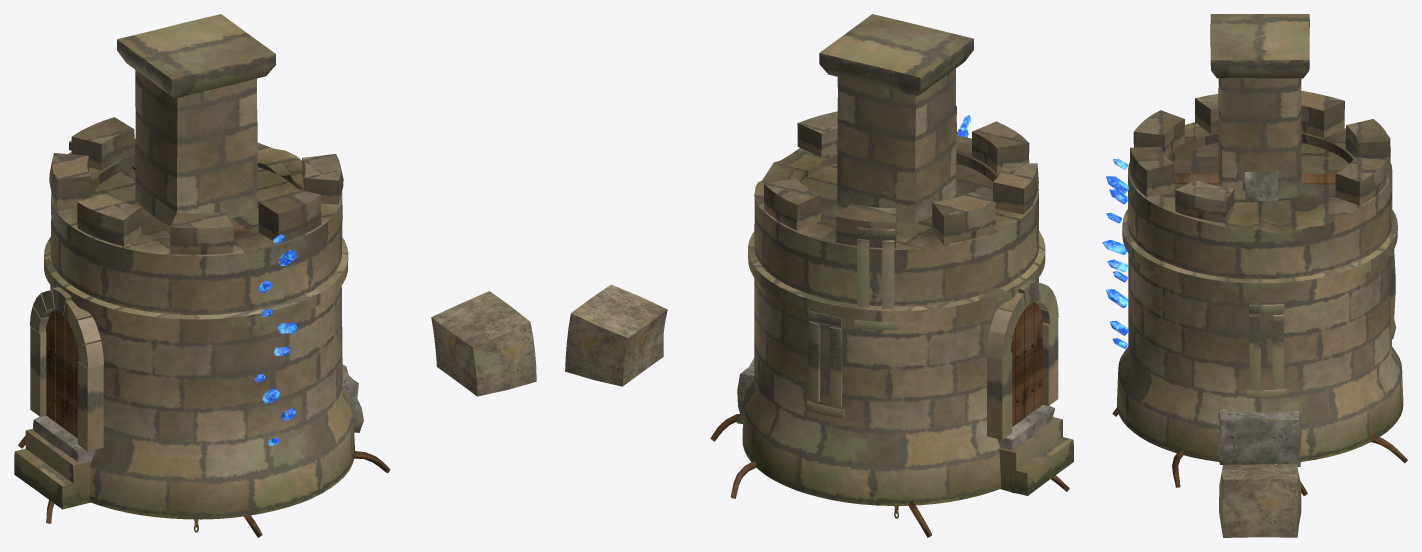
Rendered from landmarks_kit.glb.
3 renders of one model, left to right at view 1: azimuth 30°, elevation 25°; view 2: azimuth 150°, elevation 25°; view 3: azimuth 270°, elevation 25°, orthographic. The views are drawn at different scales.
Visible parts, largest first — view 1: Tower, Pier_L, Voussoir, Tower_Door, Lintel, Tower_Vein, HeartShell_Roots; view 2: Tower, Pier_L, Voussoir, Tower_Door, Lintel, HeartShell_Roots; view 3: Tower, Pier_L, Voussoir, Lintel, Tower_Vein, Menhir_C, MineHead, HeartShell_Roots.
Part boxes in pixels (x1,y1,x2,y2): Tower: [14, 117, 354, 519]; Pier_L: [117, 14, 275, 226]; Voussoir: [431, 291, 536, 396]; Tower_Door: [46, 309, 85, 438]; Lintel: [33, 364, 363, 461]; Tower_Vein: [254, 234, 297, 445]; HeartShell_Roots: [18, 435, 390, 537]; Tower: [742, 106, 1073, 505]; Pier_L: [819, 14, 973, 223]; Voussoir: [565, 284, 667, 386]; Tower_Door: [1004, 302, 1042, 426]; Lintel: [736, 358, 1054, 493]; HeartShell_Roots: [710, 414, 1069, 537]; Tower: [1117, 91, 1403, 464]; Pier_L: [1210, 14, 1309, 198]; Voussoir: [1219, 464, 1301, 537]; Lintel: [1217, 409, 1301, 466]; Tower_Vein: [1102, 159, 1128, 348]; Menhir_C: [1242, 171, 1278, 200]; MineHead: [1174, 173, 1335, 184]; HeartShell_Roots: [1112, 407, 1407, 495].
Size of the model in its own units: 6.13 by 5.88 by 3.71.
6 materials, 6 textured.
